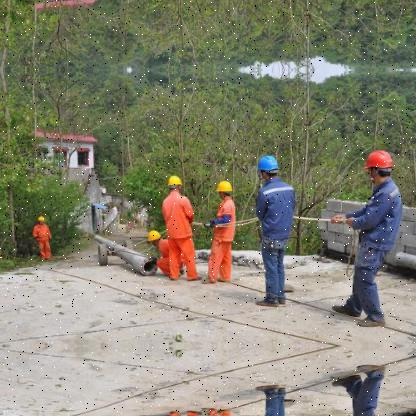helmet: (364, 146, 397, 182), (257, 152, 281, 179), (167, 172, 186, 194), (216, 177, 234, 196), (148, 225, 161, 245), (37, 212, 47, 224)
